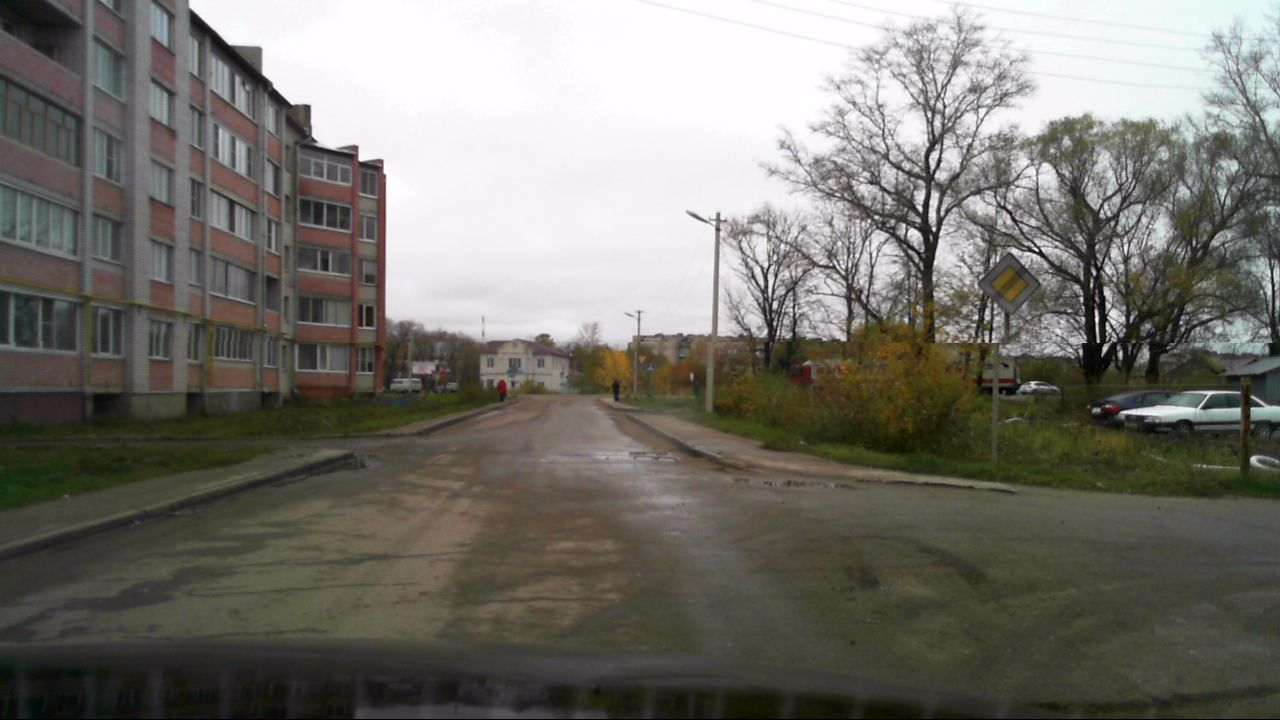main road: (977, 252, 1042, 317)
